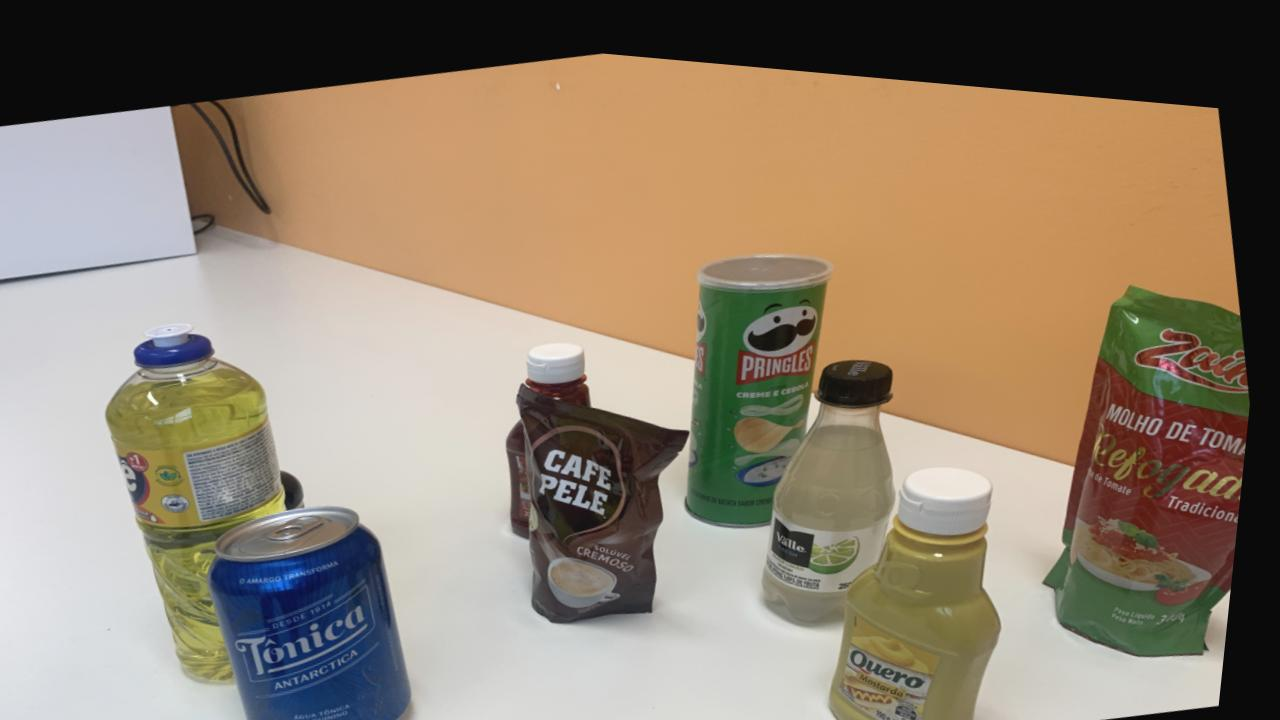Coffee-Pantry_Items: (524, 374, 696, 611)
Detergent-Cleanup_Items: (113, 320, 297, 676)
Ketchup-Pantry_Items: (532, 331, 599, 396), (513, 411, 542, 527)
Mustard-Pantry_Items: (843, 448, 1012, 720)
Pringles-Snacks: (694, 238, 837, 513)
Soda-Drinks: (773, 343, 904, 607)
Tomato_Sauce-Pantry_Items: (1056, 264, 1256, 634)
Tonic-Drinks: (219, 499, 424, 720)
